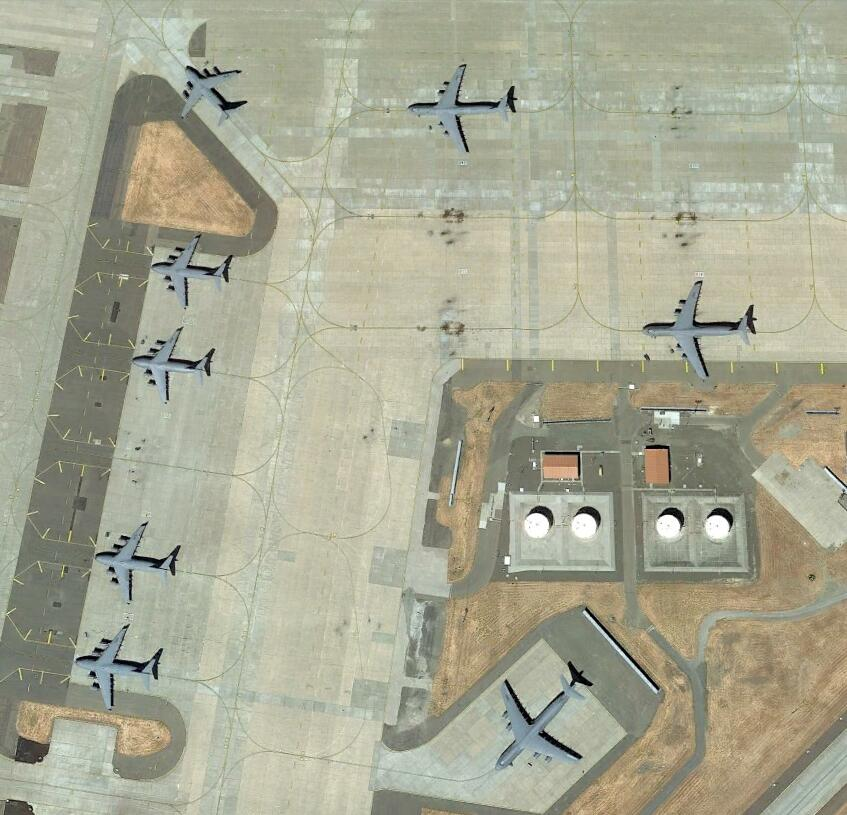A3: (74, 622, 159, 715), (98, 522, 175, 603), (131, 327, 211, 404), (150, 232, 230, 307), (181, 65, 246, 126)
A4: (642, 276, 754, 381), (411, 62, 510, 157), (494, 674, 588, 773)
